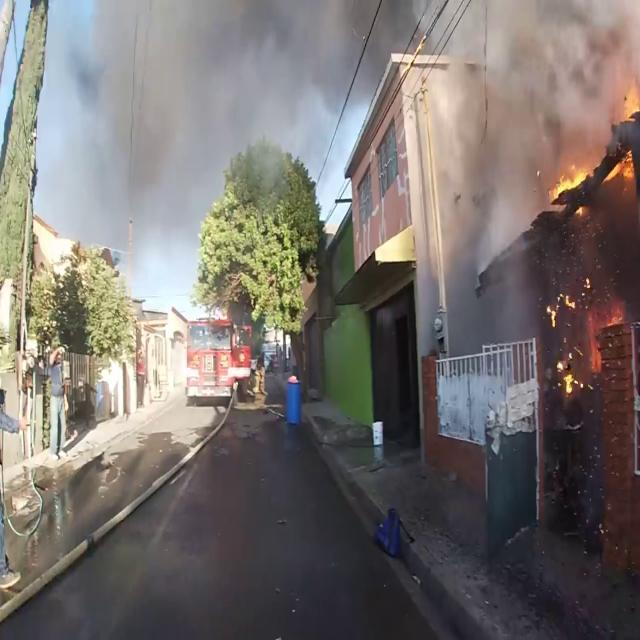Fire: (550, 160, 594, 204)
Smoke: (74, 0, 420, 252), (436, 0, 640, 244)
